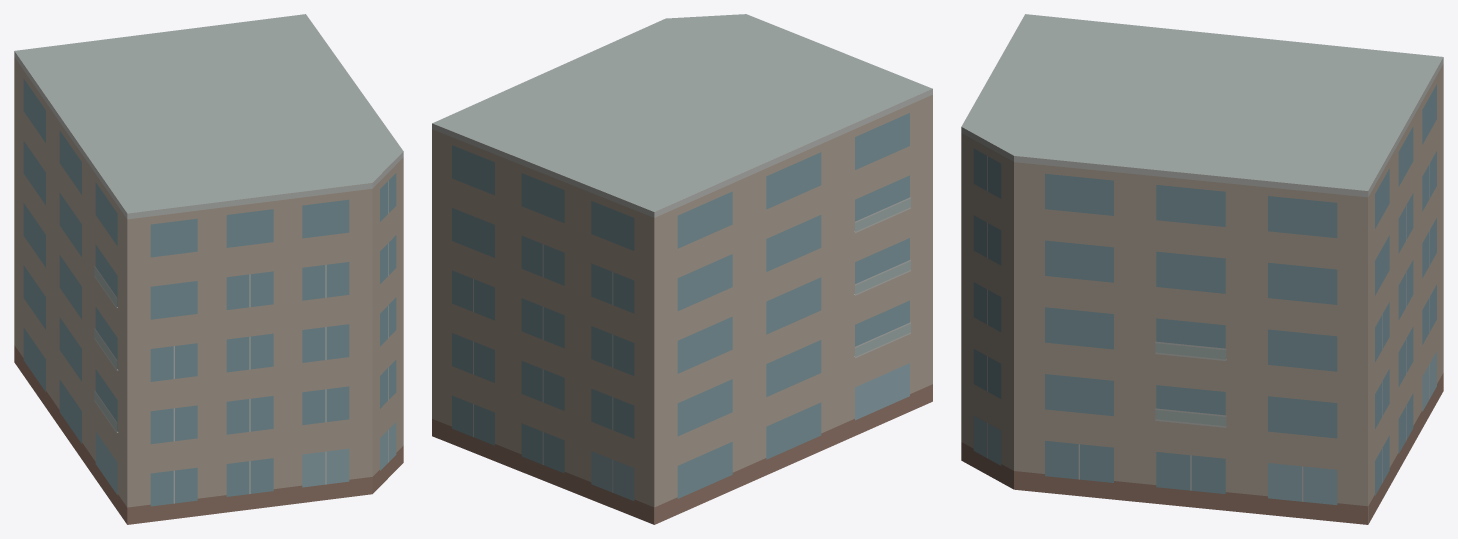
File: survey-upis-32944043.glb
3 renders of one model, left to right at view 1: azimuth 30°, elevation 25°; view 2: azimuth 150°, elevation 25°; view 3: azimuth 270°, elevation 25°, orthographic. The views are drawn at different scales.
Visible parts, largest first — view 1: survey-upis-32944043.tmp; view 2: survey-upis-32944043.tmp; view 3: survey-upis-32944043.tmp.
Boxes of the visible parts, bbox=[...] form: survey-upis-32944043.tmp: bbox=[14, 14, 403, 524]; survey-upis-32944043.tmp: bbox=[432, 14, 932, 524]; survey-upis-32944043.tmp: bbox=[961, 14, 1443, 524].
Size of the model in its own units: 14.92 by 13.1 by 17.17.
